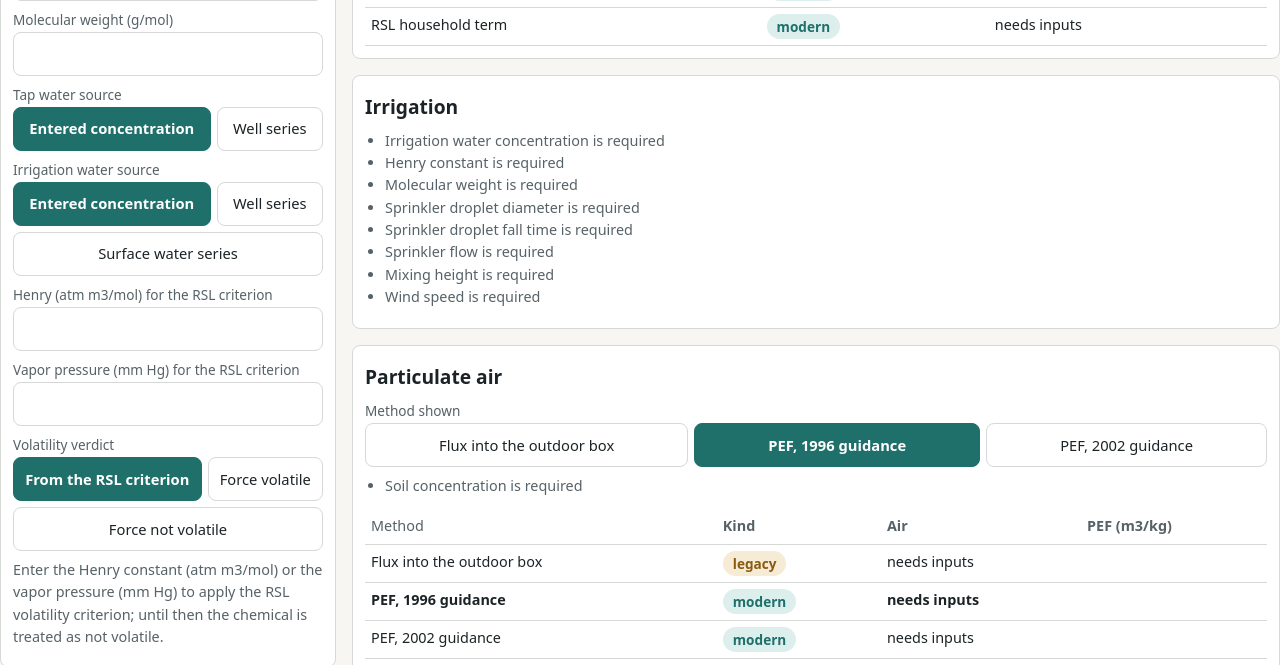
Test: HouseholdPage › derives the volatility verdict from Henry and vapor pressure, with an override
(page scrolled)
Expected: the text "Enter the Henry constant (atm m3/mol) or the vapor pressure" is shown, [13,560,322,646]
Step 1. Type "5e-3" into the field labelled "Henry (atm m3/mol) for the RSL criterion" → [168, 329], box [13,307,323,351]
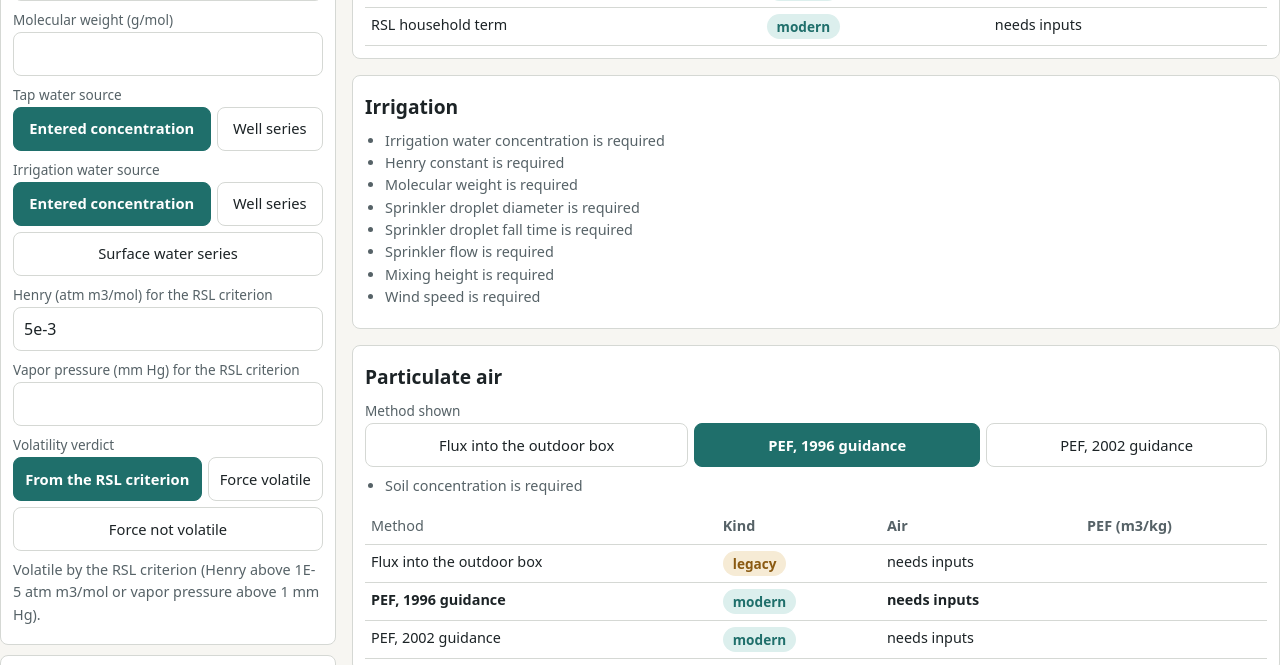
Expected: the text "Volatile by the RSL criterion" is shown, [13,560,319,624]
Step 2. Replace the text in the field labelled "Henry (atm m3/mol) for the RSL criterion" with "1e-6" → [168, 329], box [13,307,323,351]
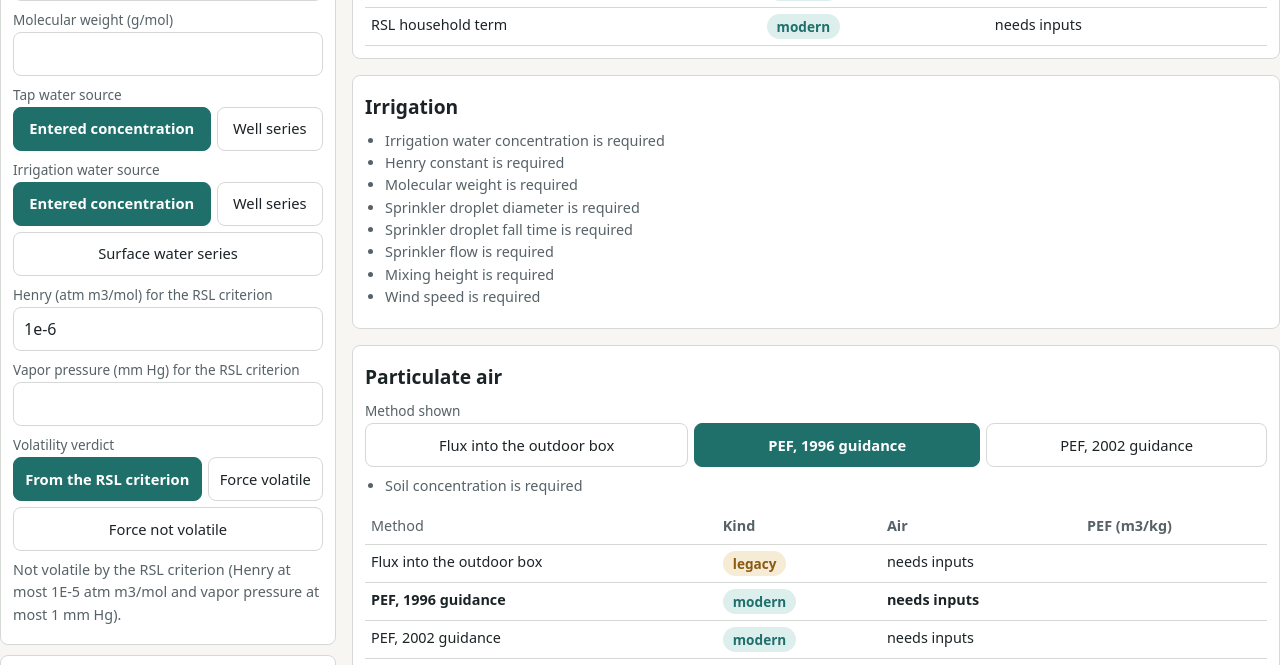
Expected: the text "Not volatile by the RSL criterion" is shown, [13,560,319,624]
Step 3. Click the radio button labelled "Force volatile" → [265, 479], box [208,457,323,501]
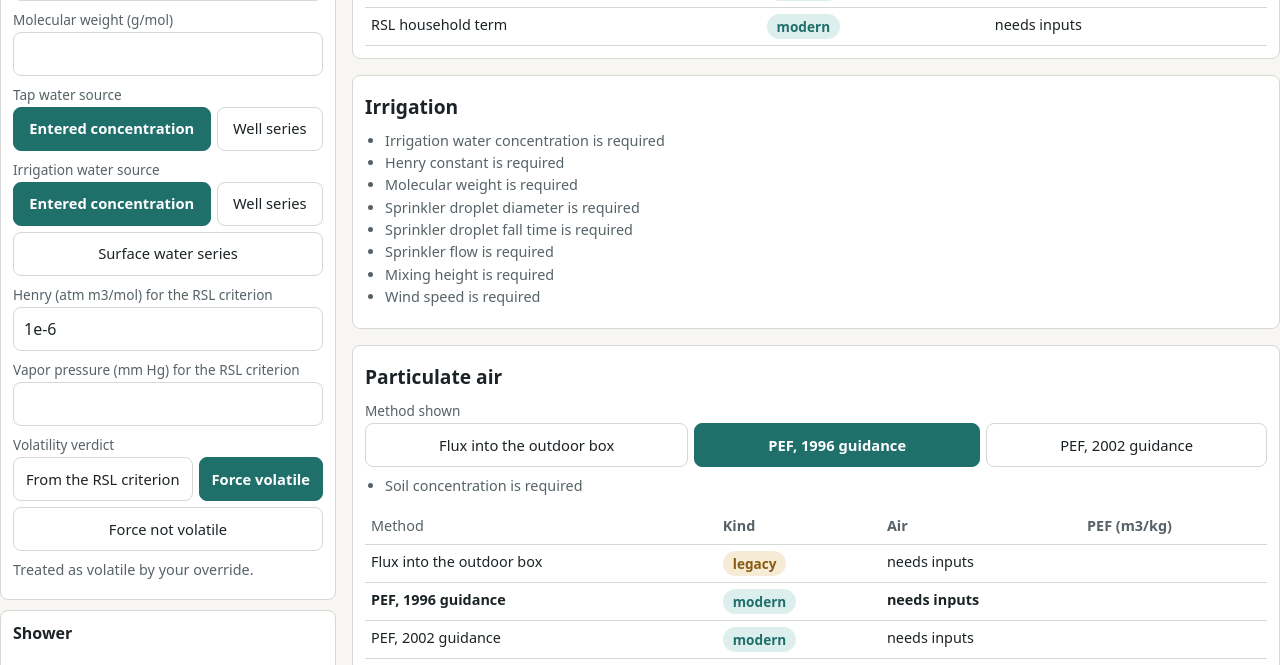
Expected: the text "Treated as volatile by your override." is shown, [13,560,254,579]
